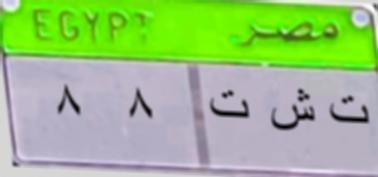8: (121, 81, 158, 130), (54, 80, 83, 121)
sheen: (267, 85, 318, 136)
taa: (203, 86, 252, 126), (326, 90, 372, 132)
